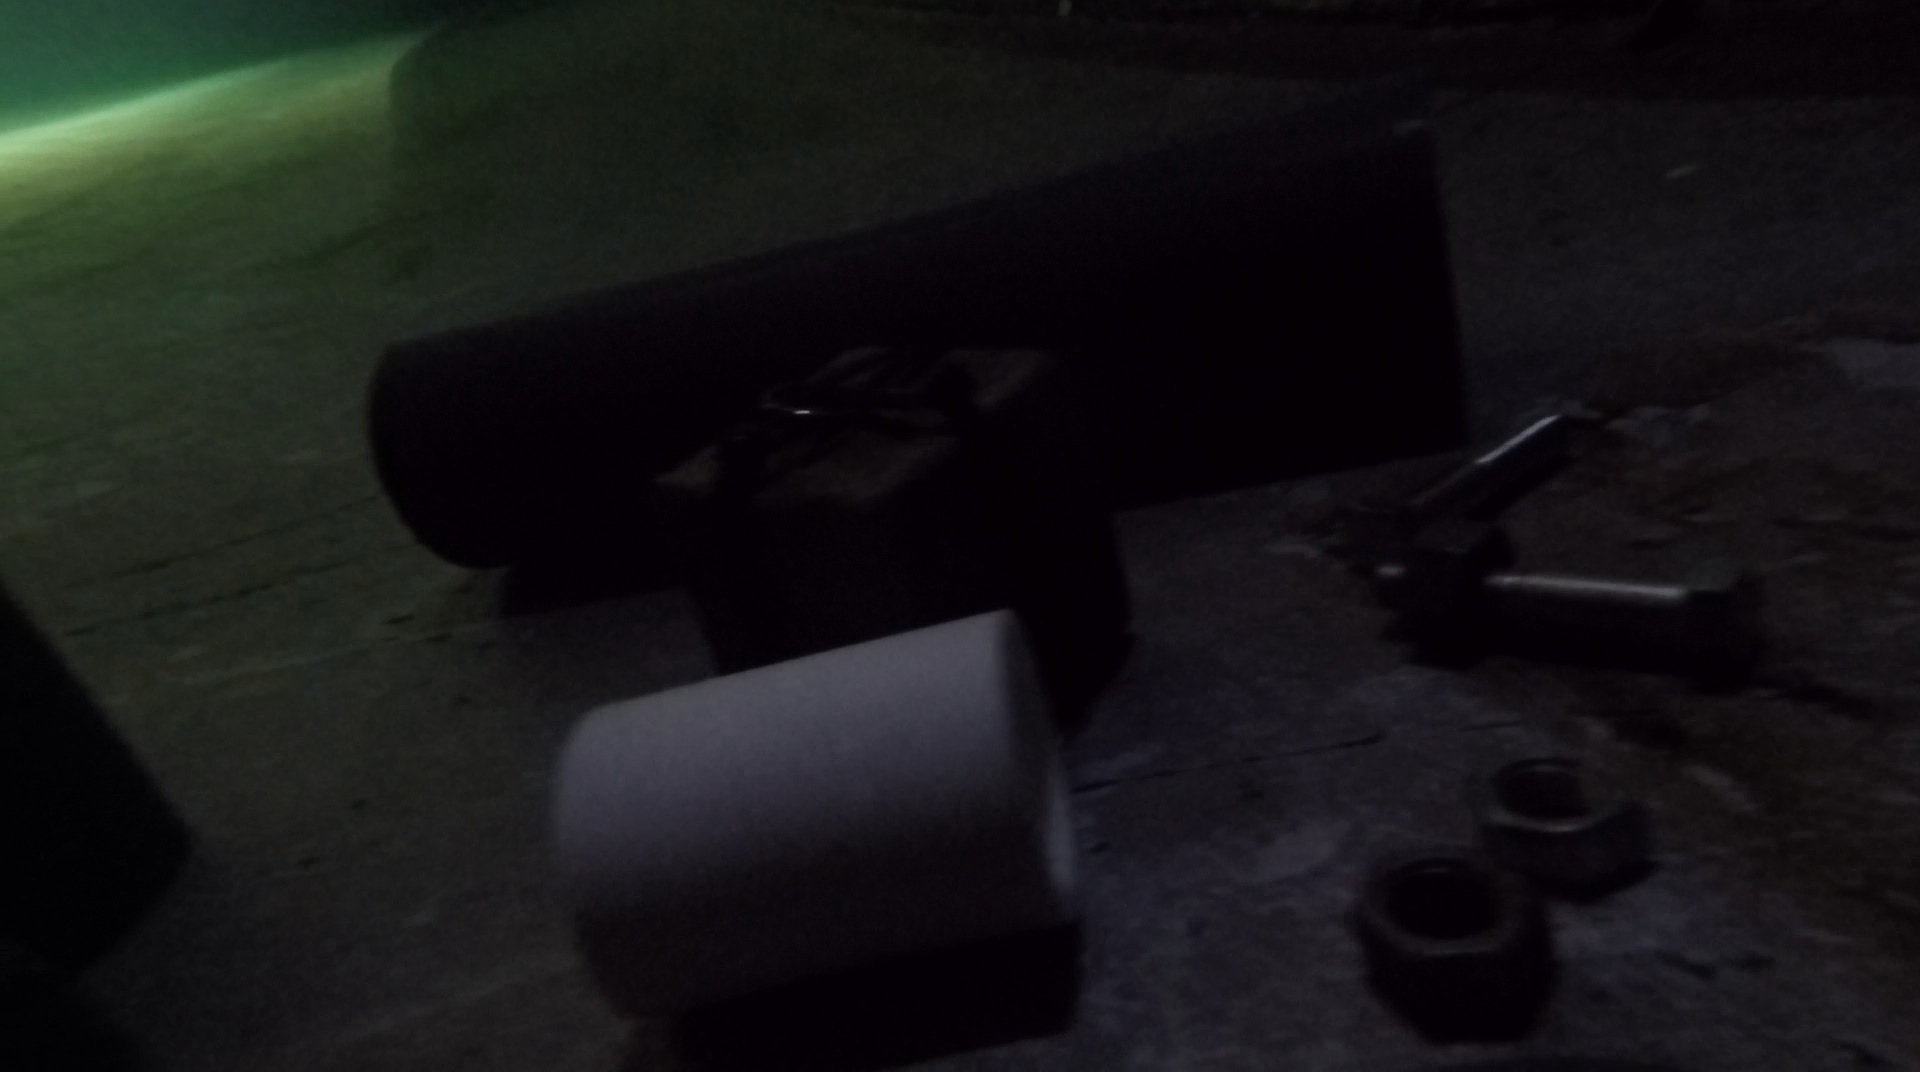bolt: (1367, 560, 1766, 676), (1374, 415, 1571, 550)
nut: (1348, 841, 1548, 1035), (1469, 746, 1640, 889), (1403, 506, 1502, 665)
pipe: (360, 76, 1469, 574), (549, 610, 1087, 1018)
